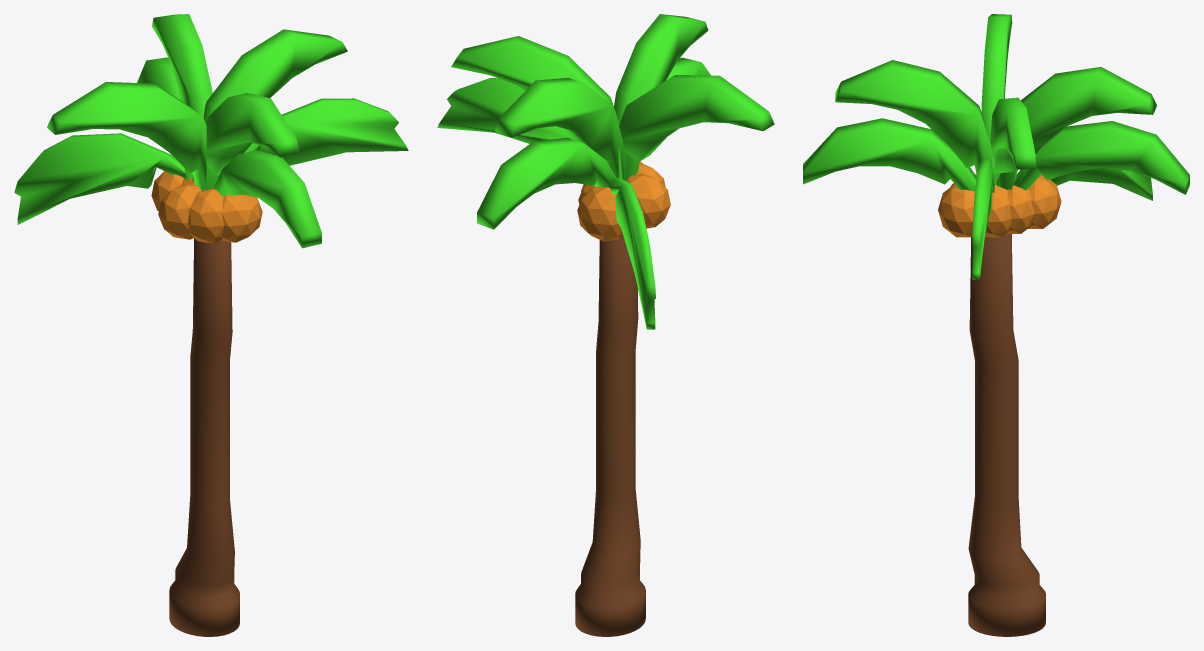
Rendered from coconut 1.fbx.
The picture shows the model from 3 angles, left to right: view 1: azimuth 30°, elevation 25°; view 2: azimuth 150°, elevation 25°; view 3: azimuth 270°, elevation 25°; orthographic projection.
Visible parts, largest first — view 1: Circle; view 2: Circle; view 3: Circle.
Part boxes in pixels (box(x1,y1,x2,y2)): Circle: box(14, 14, 408, 636); Circle: box(437, 14, 774, 636); Circle: box(803, 14, 1189, 636).
Bounding box in the file's own units: 83.17 × 131 × 81.81.
